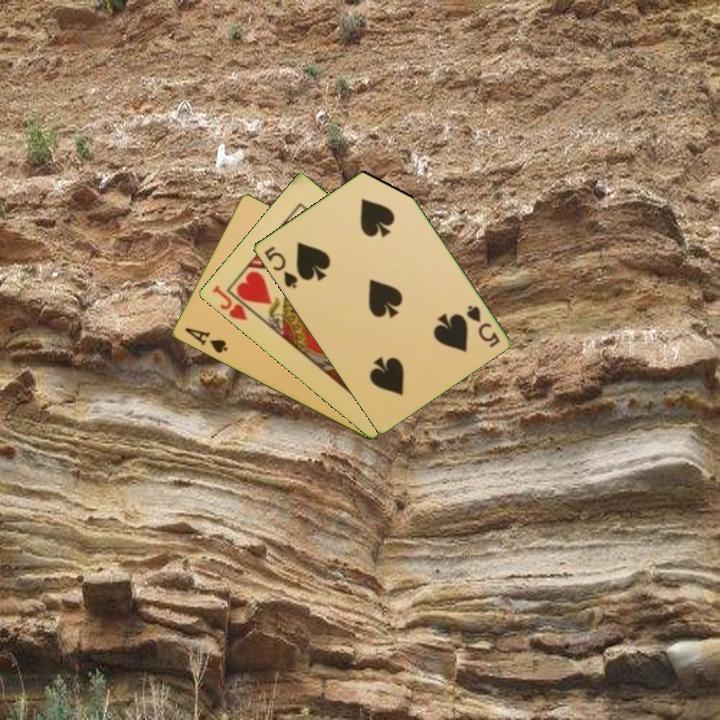5s: (462, 301, 502, 351), (261, 242, 300, 292)
As: (181, 324, 230, 356)
Jh: (208, 282, 250, 324)
